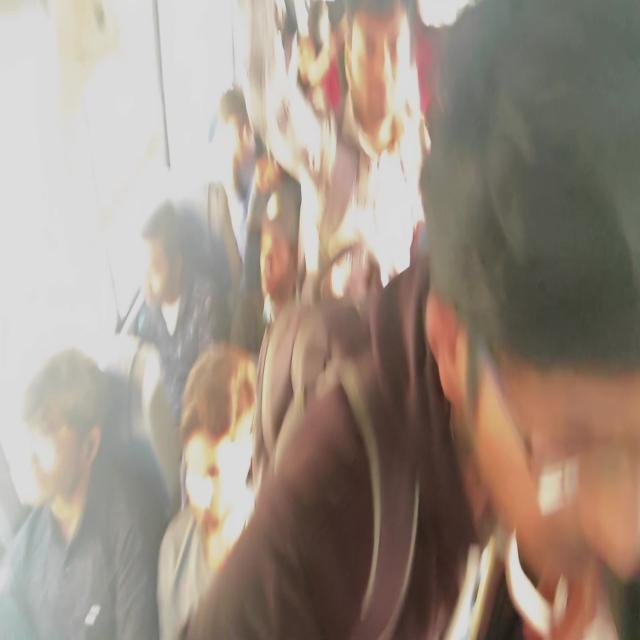person: (27, 362, 132, 552), (176, 347, 251, 527), (335, 2, 411, 118), (132, 194, 196, 316), (258, 185, 314, 292), (213, 85, 268, 186), (316, 6, 354, 52)
